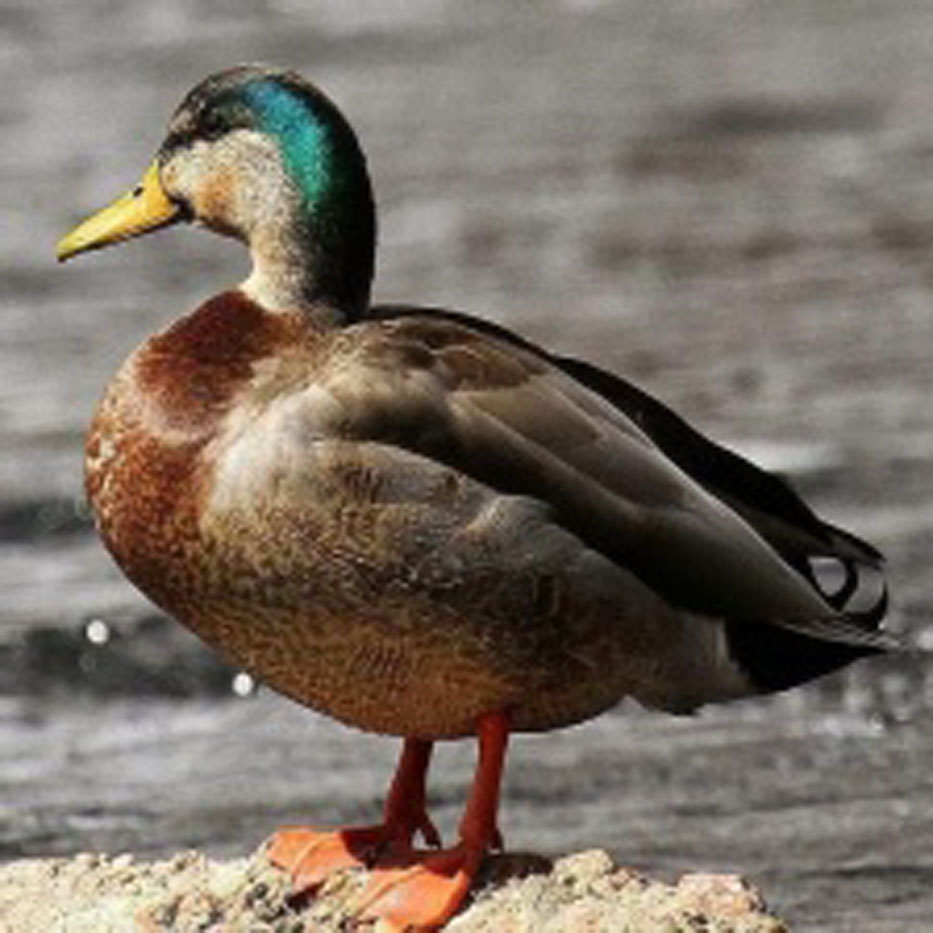Mencari Makan di Lumpur: (48, 171, 184, 264)
